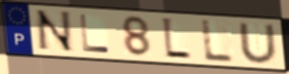8: (119, 15, 153, 58)
L: (200, 19, 237, 64), (159, 15, 193, 62), (78, 13, 112, 54)
N: (34, 9, 77, 54)
U: (236, 22, 280, 65)
